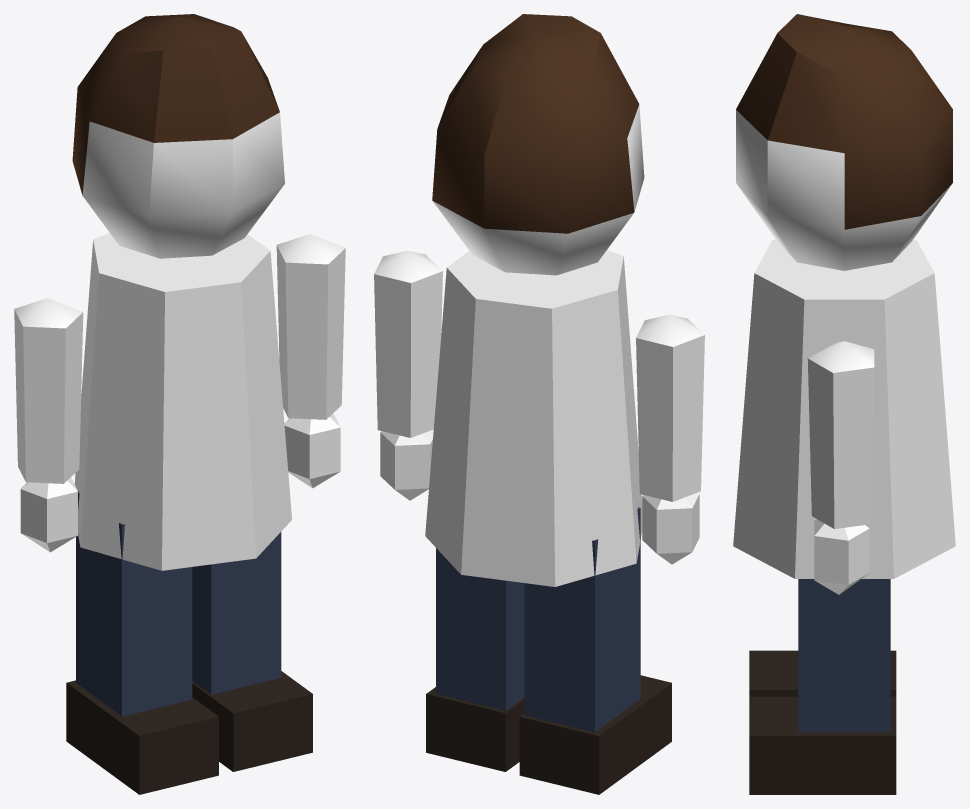
The model's file is person.glb.
3 renders of one model, left to right at view 1: azimuth 30°, elevation 25°; view 2: azimuth 150°, elevation 25°; view 3: azimuth 270°, elevation 25°, orthographic.
Parts seen in each view (by area): view 1: body, leg_R, leg_L, arm_R, arm_L; view 2: body, leg_R, leg_L, arm_R, arm_L; view 3: body, leg_L, arm_L, leg_R.
Boxes of the visible parts, x1,y1,x2,y2 form: body: [72, 14, 291, 570]; leg_R: [66, 491, 218, 794]; leg_L: [192, 532, 312, 771]; arm_R: [14, 298, 83, 552]; arm_L: [276, 234, 345, 488]; body: [425, 14, 644, 586]; leg_R: [519, 507, 671, 794]; leg_L: [426, 548, 524, 771]; arm_R: [636, 314, 704, 564]; arm_L: [374, 250, 442, 500]; body: [733, 14, 955, 578]; leg_L: [749, 579, 896, 794]; arm_L: [807, 341, 874, 594]; leg_R: [749, 650, 896, 696].
Size of the model in its own units: 1.38 by 2.94 by 0.8189.
